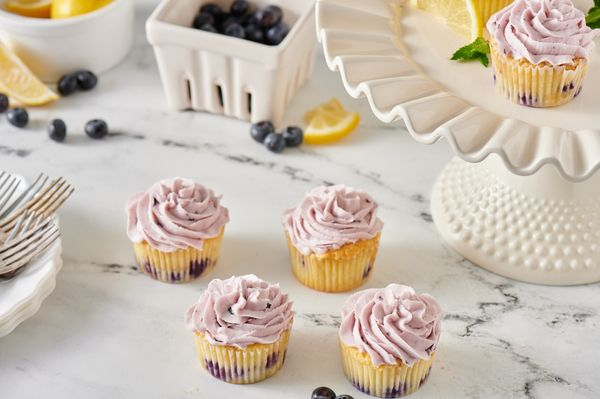sushi: (144, 1, 318, 136), (0, 1, 137, 78)
